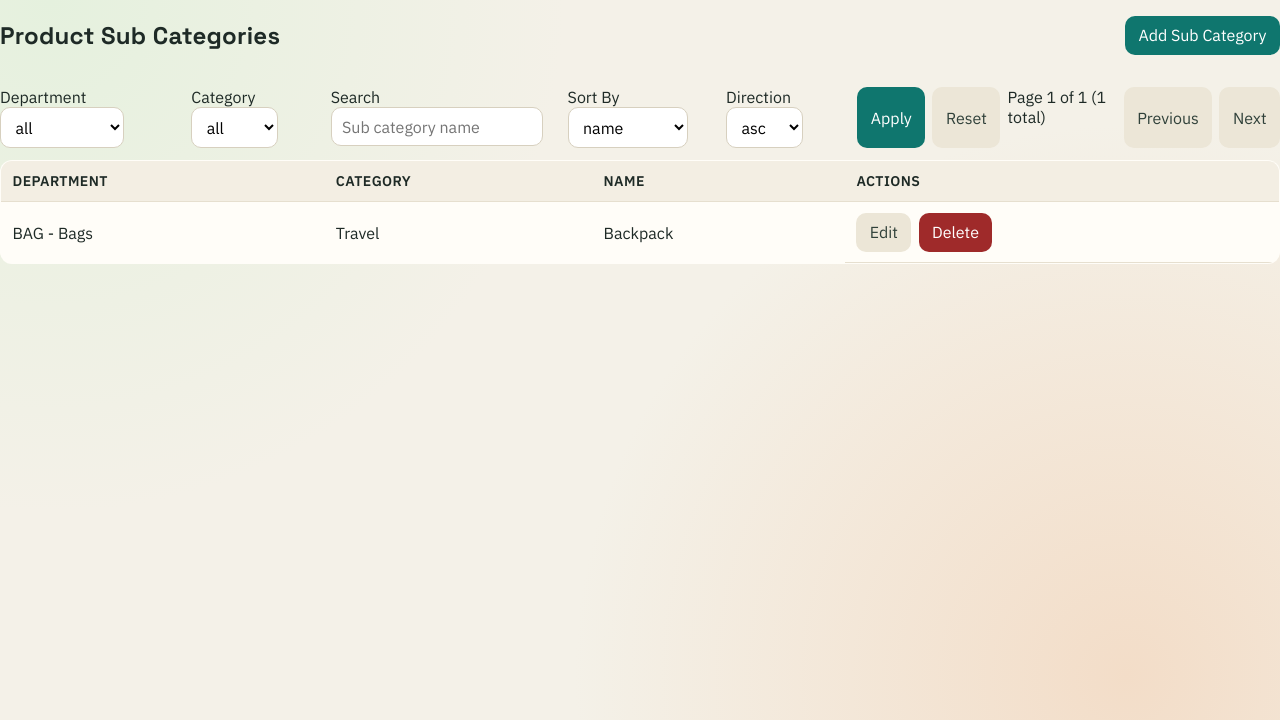
Test: ProductSubCategoriesPage › shows submit error and stays in modal
expect the heading "Product Sub Categories" is shown: met, box x1=0 y1=20 x2=280 y2=51
Click the button "Add Sub Category" at (1202, 35), box x1=1125 y1=16 x2=1279 y2=55
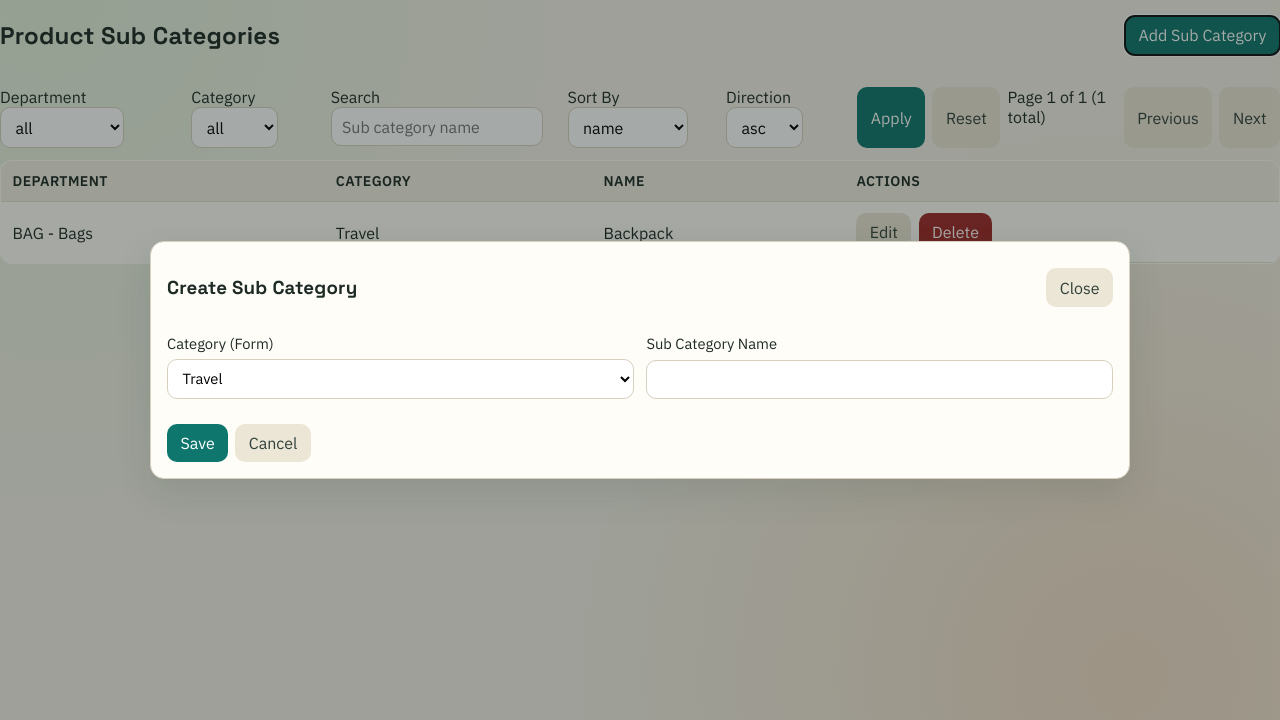
Select "Travel" in the dropdown labelled "Category (Form)" at (400, 379), box x1=167 y1=358 x2=634 y2=399
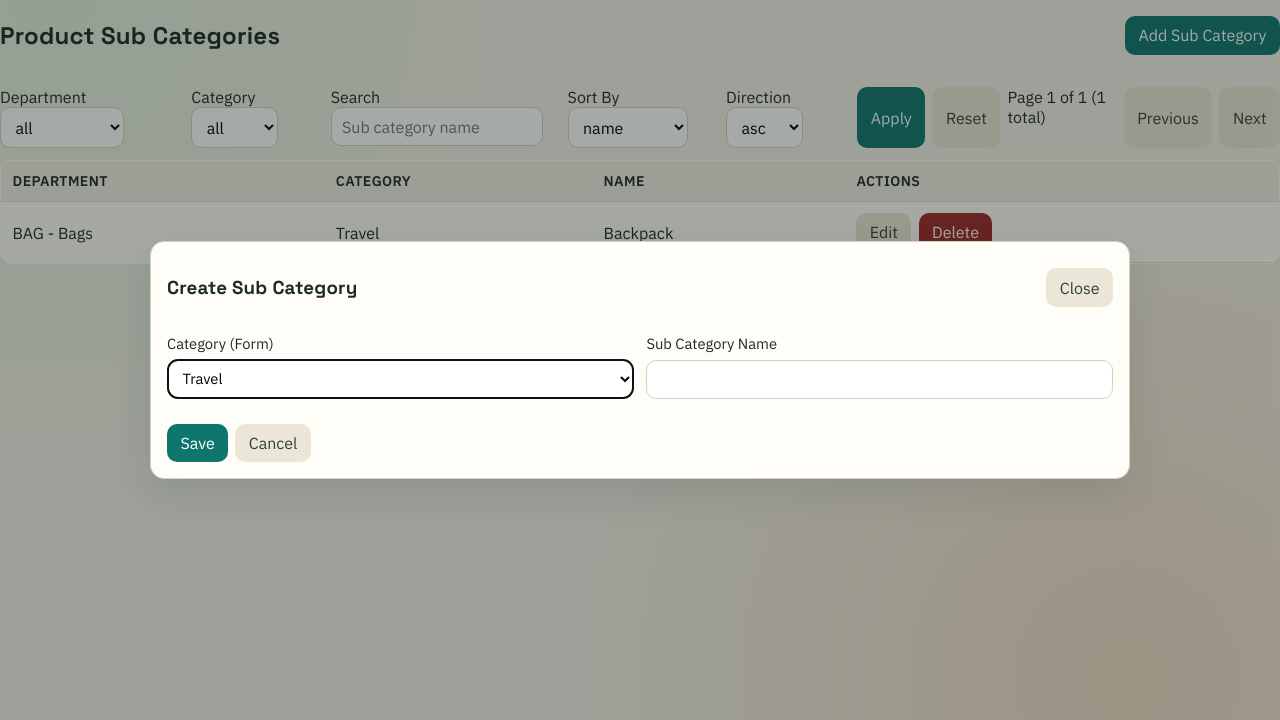
Type "Duffel" into the field labelled "Sub Category Name" at (880, 379), box x1=646 y1=360 x2=1113 y2=399
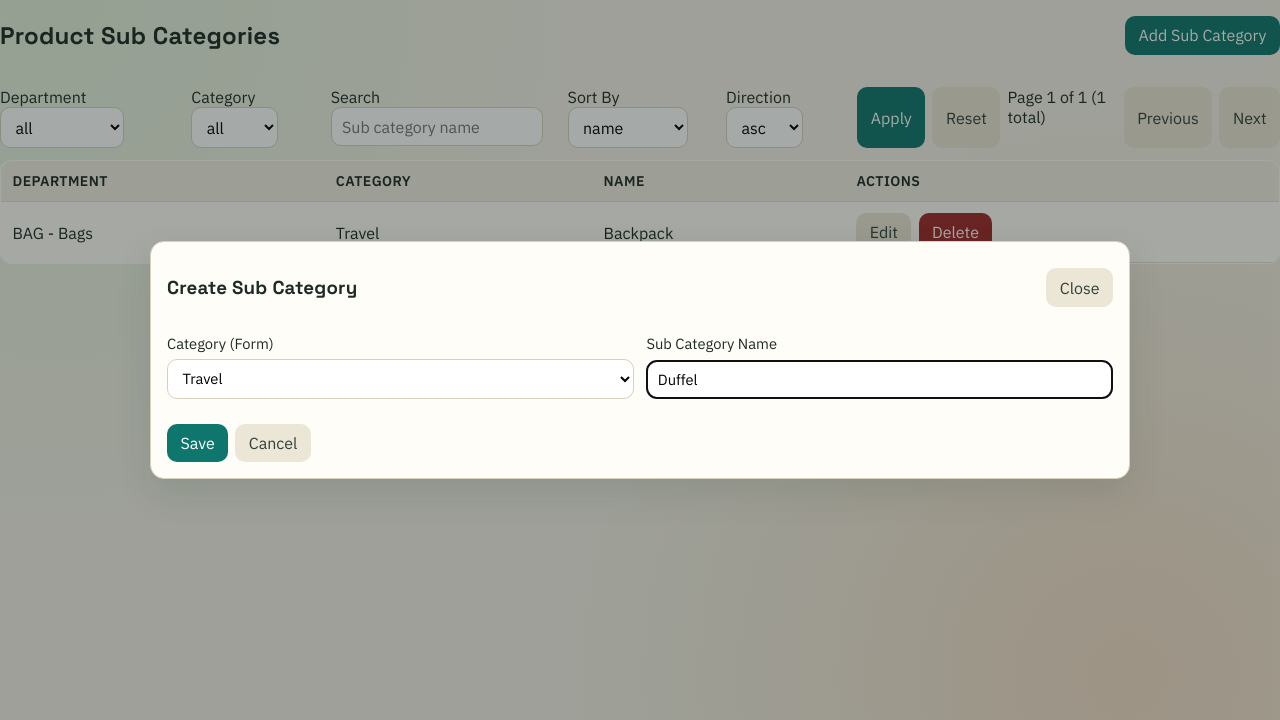
Click the button "Save" at (198, 443), box x1=167 y1=424 x2=228 y2=462
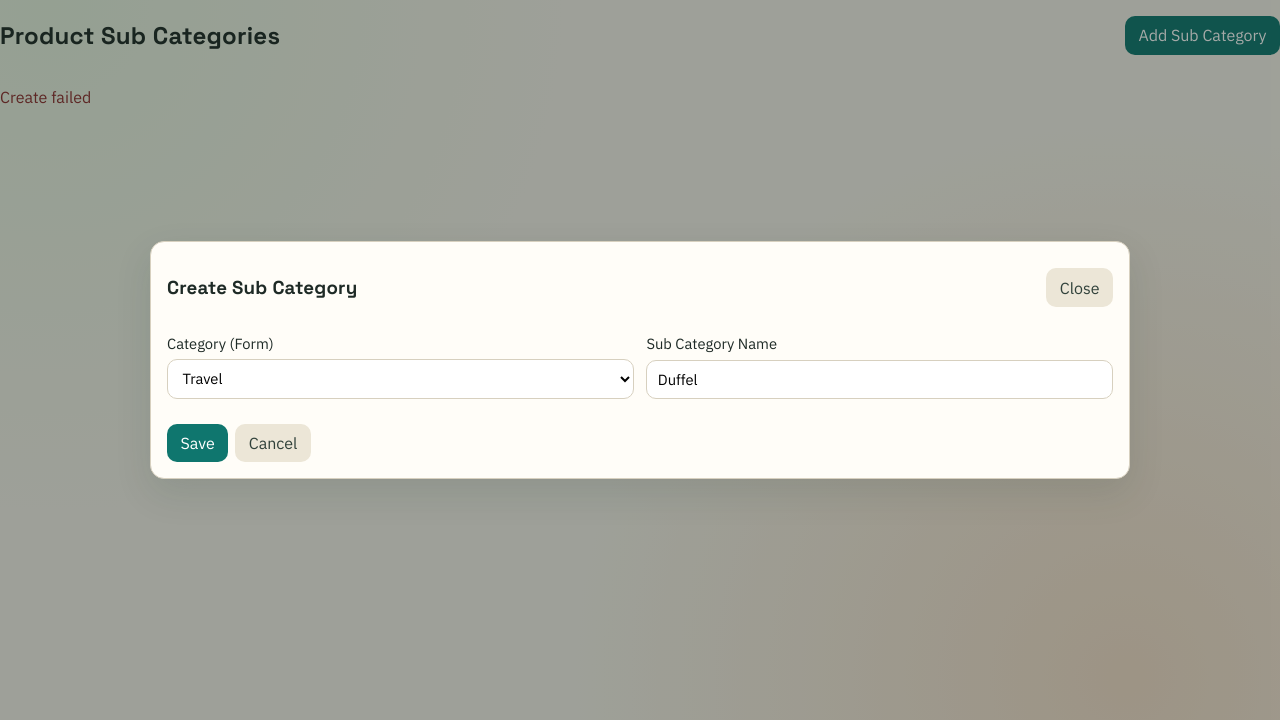
expect the heading "Create Sub Category" is shown: met, box x1=167 y1=276 x2=357 y2=299
expect the text "Create failed" is shown: met, box x1=0 y1=87 x2=91 y2=107
